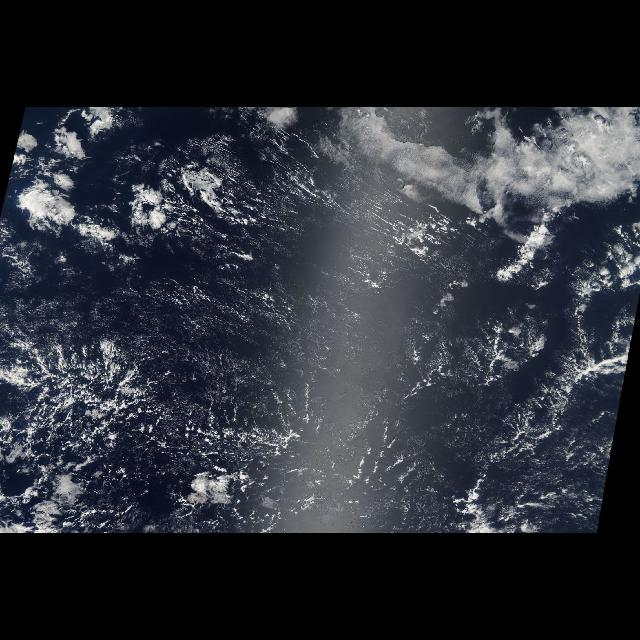Fish: (453, 288, 623, 526)
Flower: (6, 107, 314, 279)
Gravel: (8, 328, 350, 526)
Sugar: (30, 255, 628, 483)
